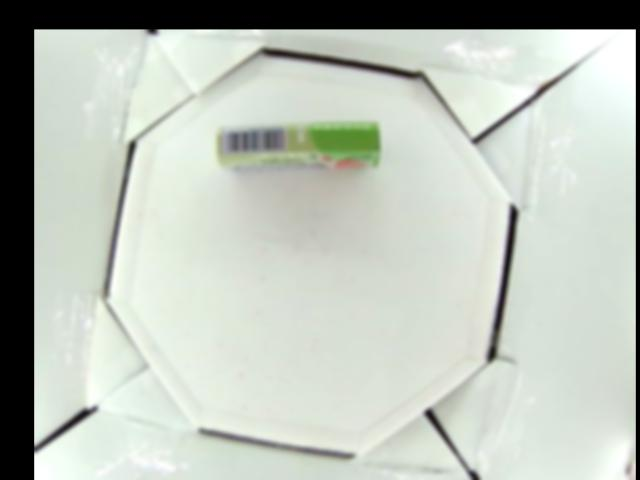Bottle: (216, 119, 383, 172)
